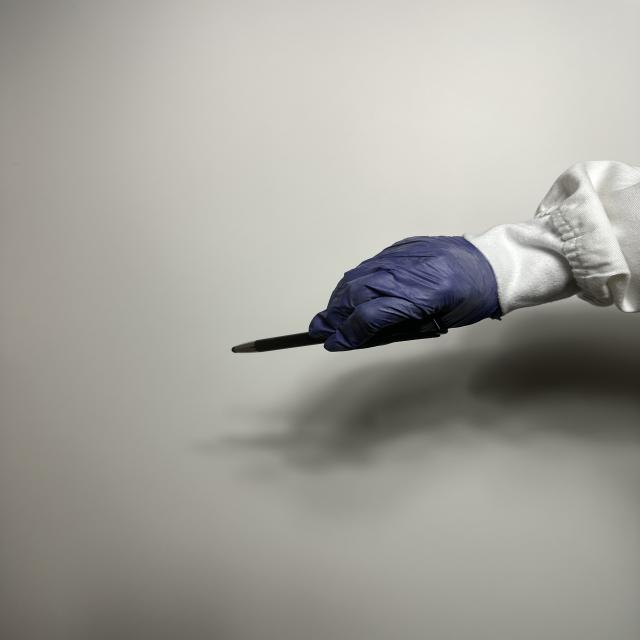gloves_contaminated: (309, 236, 500, 351)
